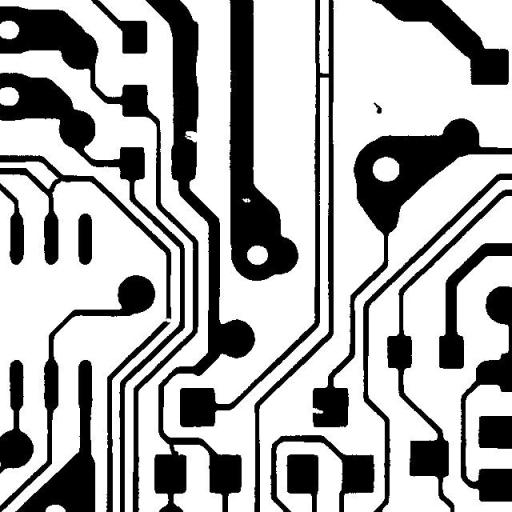copper: (366, 94, 388, 121)
mousebite: (176, 123, 206, 150), (304, 400, 330, 421)
open: (154, 308, 178, 330)
pin-hole: (234, 190, 258, 210)
short: (40, 170, 69, 200), (159, 430, 186, 462), (311, 65, 337, 85)
